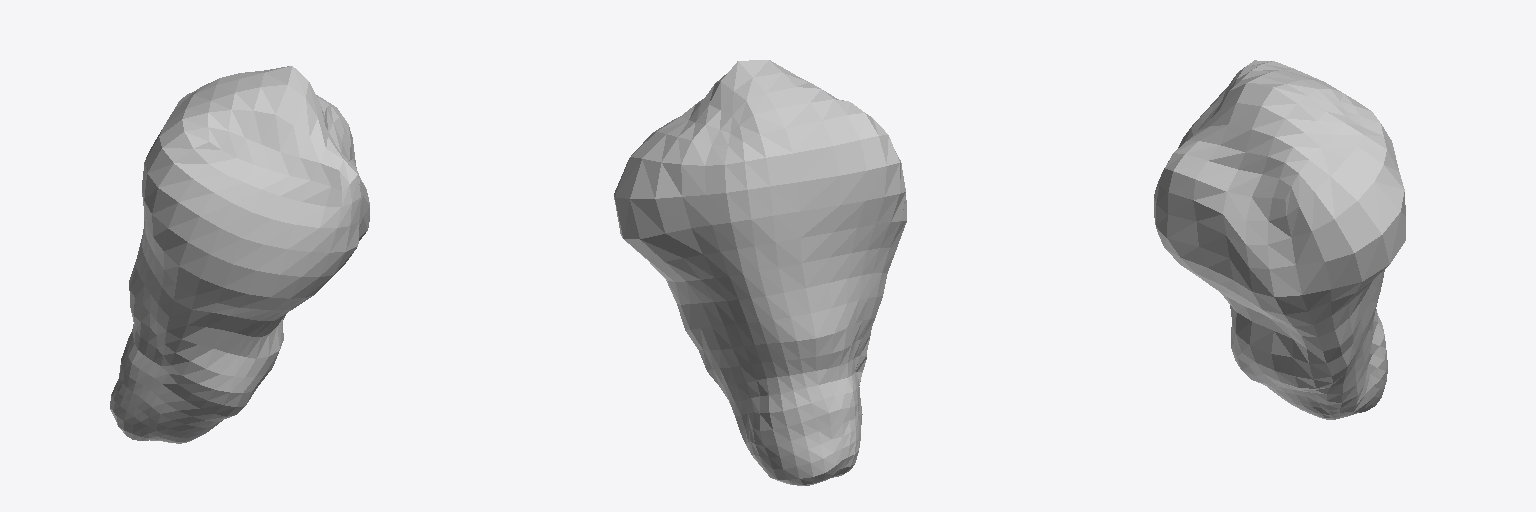
File: PM3D_rock039_007.OBJ
3 views of the same model, side by side, from view 1: azimuth 30°, elevation 25°; view 2: azimuth 150°, elevation 25°; view 3: azimuth 270°, elevation 25° (orthographic).
Visible parts, largest first — view 1: Group40937; view 2: Group40937; view 3: Group40937.
Boxes of the visible parts, x1,y1,x2,y2 form: Group40937: [110, 66, 369, 443]; Group40937: [614, 60, 906, 485]; Group40937: [1154, 60, 1405, 419].
Size of the model in its own units: 1592 by 2382 by 1473.